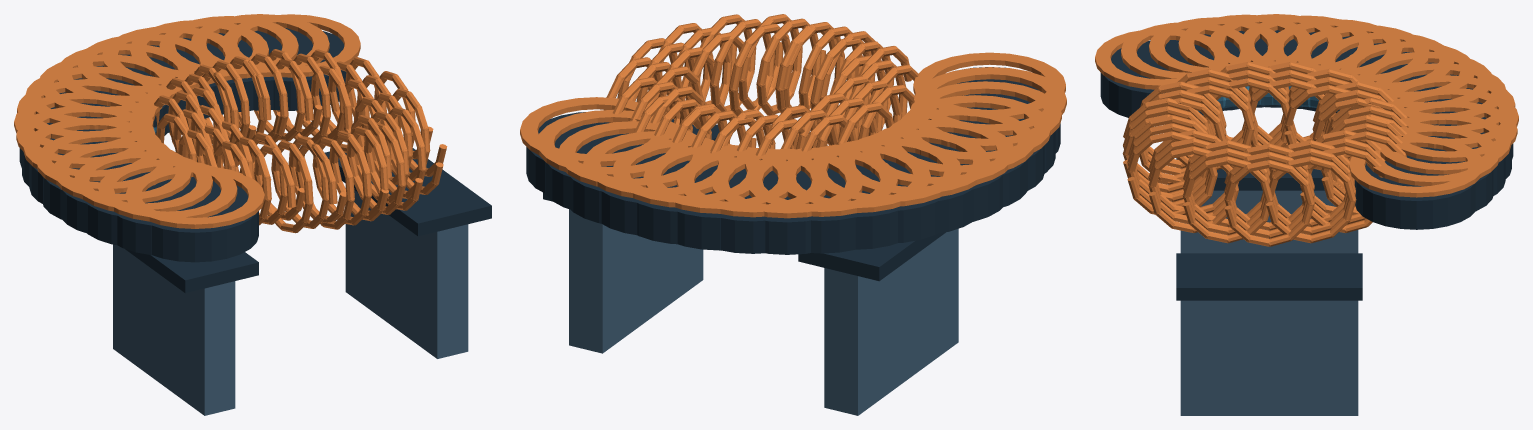
File: 08_L75_MagneticMassAnalyzer.fbx
3 views of the same model, side by side, from view 1: azimuth 30°, elevation 25°; view 2: azimuth 150°, elevation 25°; view 3: azimuth 270°, elevation 25° (orthographic). The views are drawn at different scales.
Parts seen in each view (by area): view 1: MagneticMassAnalyzer; view 2: MagneticMassAnalyzer; view 3: MagneticMassAnalyzer.
Part boxes in pixels (x1,y1,x2,y2): MagneticMassAnalyzer: (14,14,491,415); MagneticMassAnalyzer: (520,14,1066,415); MagneticMassAnalyzer: (1095,14,1518,415).
Bounding box in the file's own units: 321 × 194 × 307.
